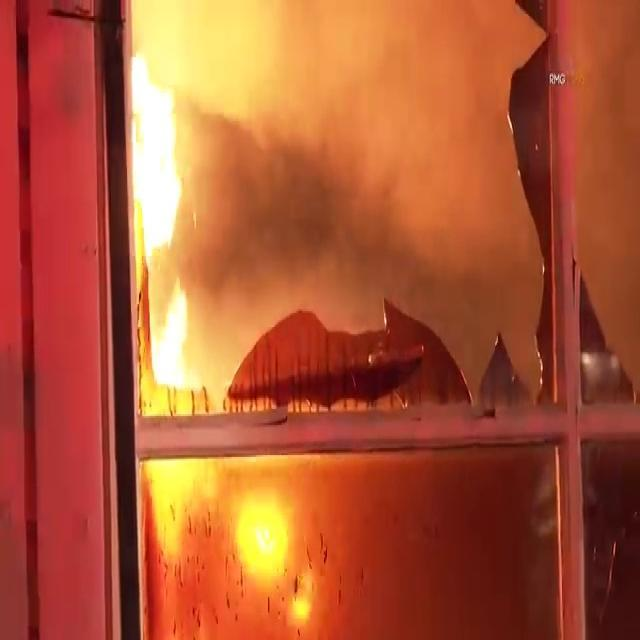Fire: (124, 22, 191, 266), (147, 267, 194, 387)
Smoke: (185, 3, 535, 350)
